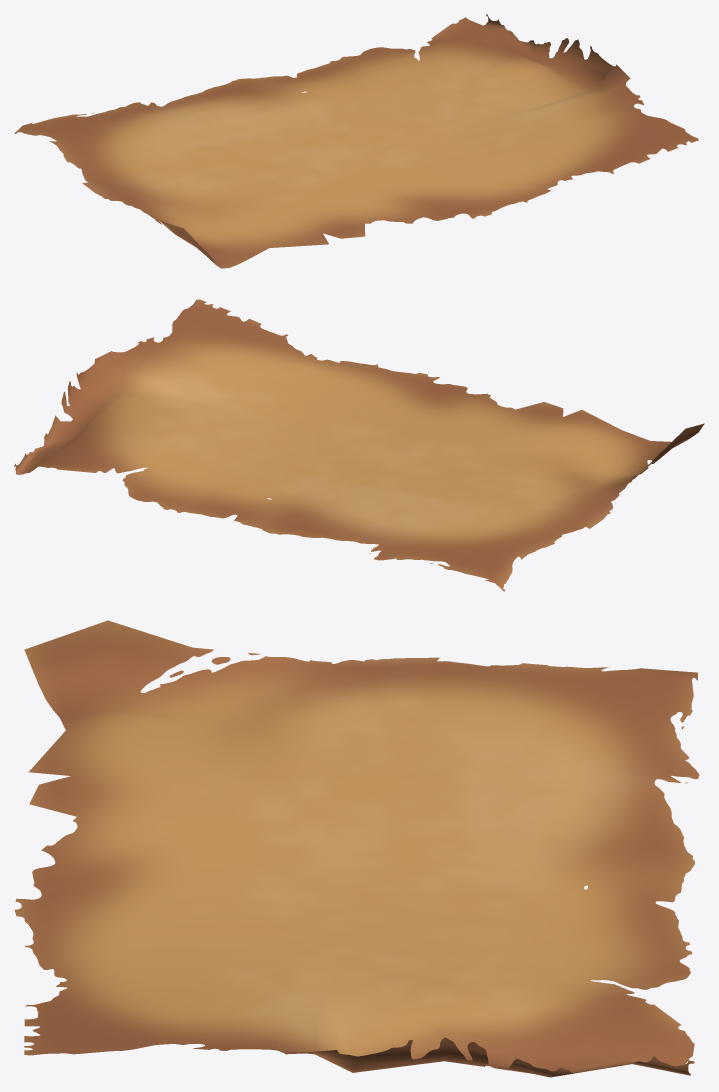
File: SM_Paper.fbx
The picture shows the model from 3 angles, top to bottom: view 1: azimuth 30°, elevation 25°; view 2: azimuth 150°, elevation 25°; view 3: azimuth 270°, elevation 25°; orthographic projection. The views are drawn at different scales.
Visible parts, largest first — view 1: SM_Paper_LOD0; view 2: SM_Paper_LOD0; view 3: SM_Paper_LOD0.
Boxes of the visible parts, box(x1,y1,x2,y2) form: SM_Paper_LOD0: box(14, 14, 698, 268); SM_Paper_LOD0: box(14, 299, 704, 591); SM_Paper_LOD0: box(14, 620, 699, 1077).
Size of the model in its own units: 45.17 by 31.18 by 3.03.
Materials: 1 (1 with a texture image).
